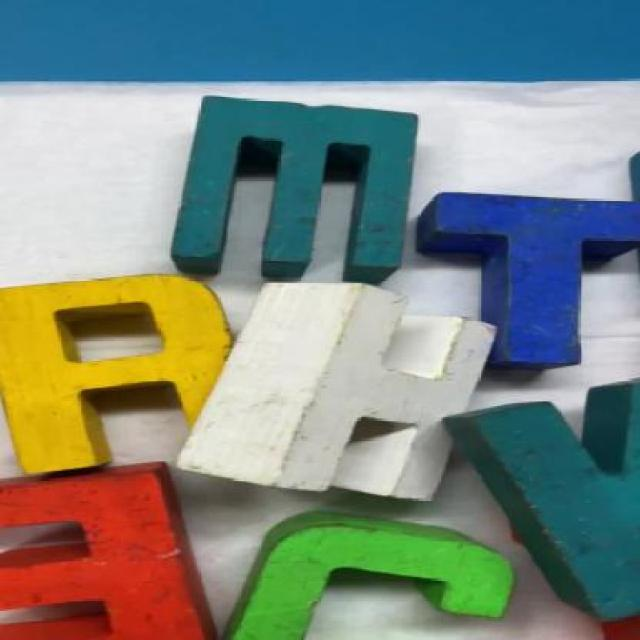H: (162, 269, 512, 514)
M: (182, 95, 416, 277)
R: (2, 274, 276, 475)
T: (441, 191, 639, 371)
